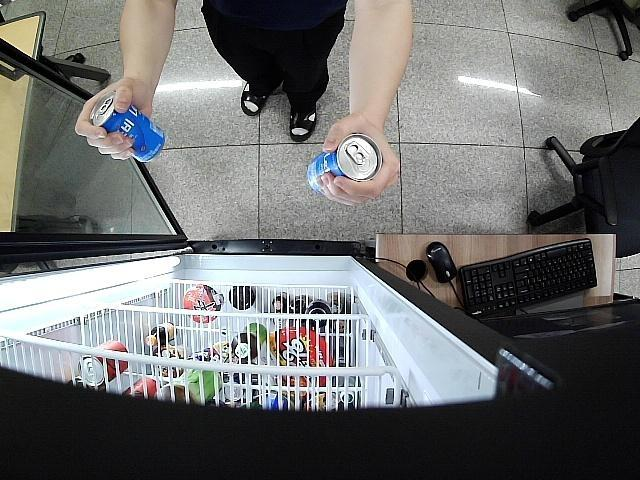15_letsbe: (89, 90, 164, 162), (306, 134, 382, 195)
